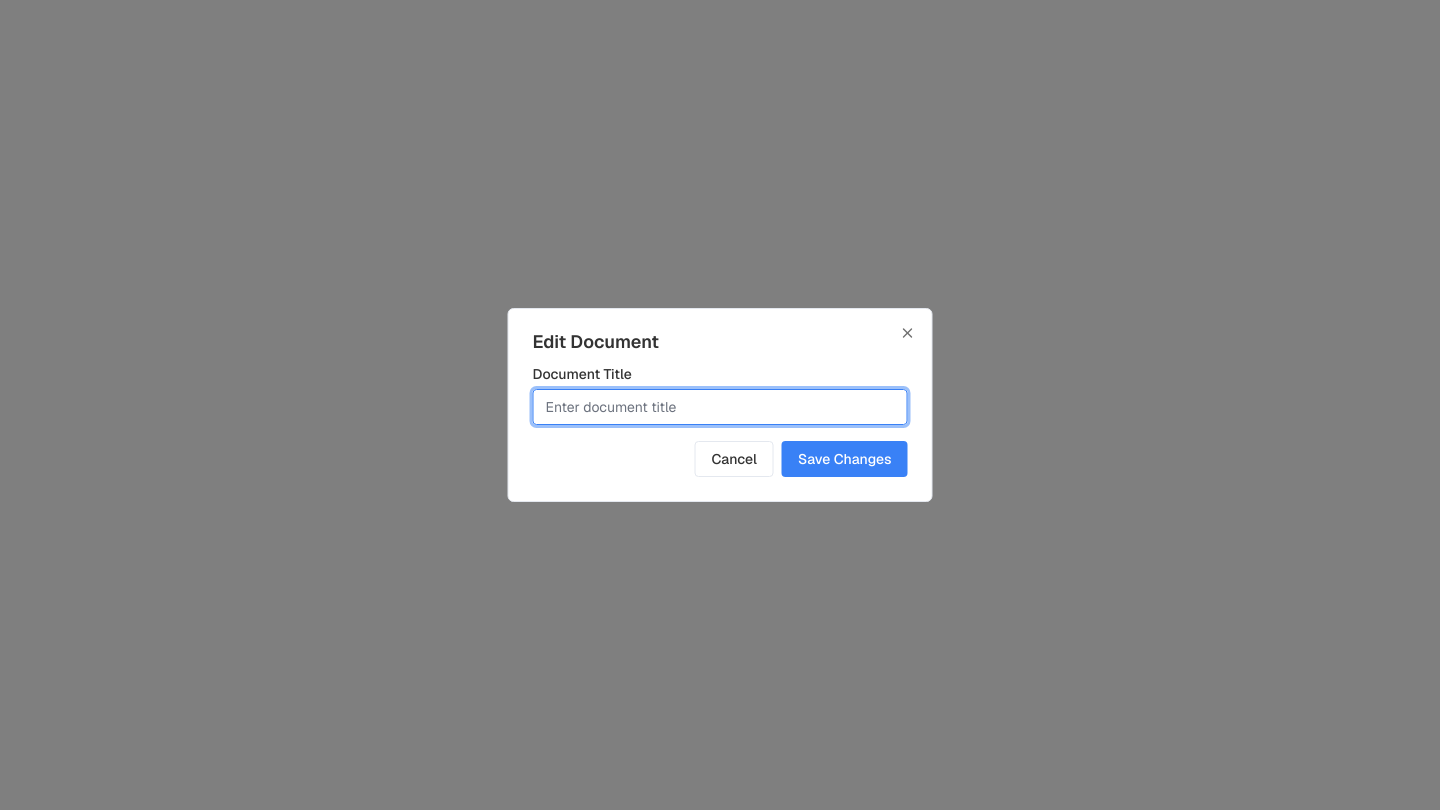
it: CardDialog › should show document-specific validation error when form is submitted with empty title
Click the button "Save Changes". click: (845, 459)
box: x1=782 y1=441 x2=908 y2=477
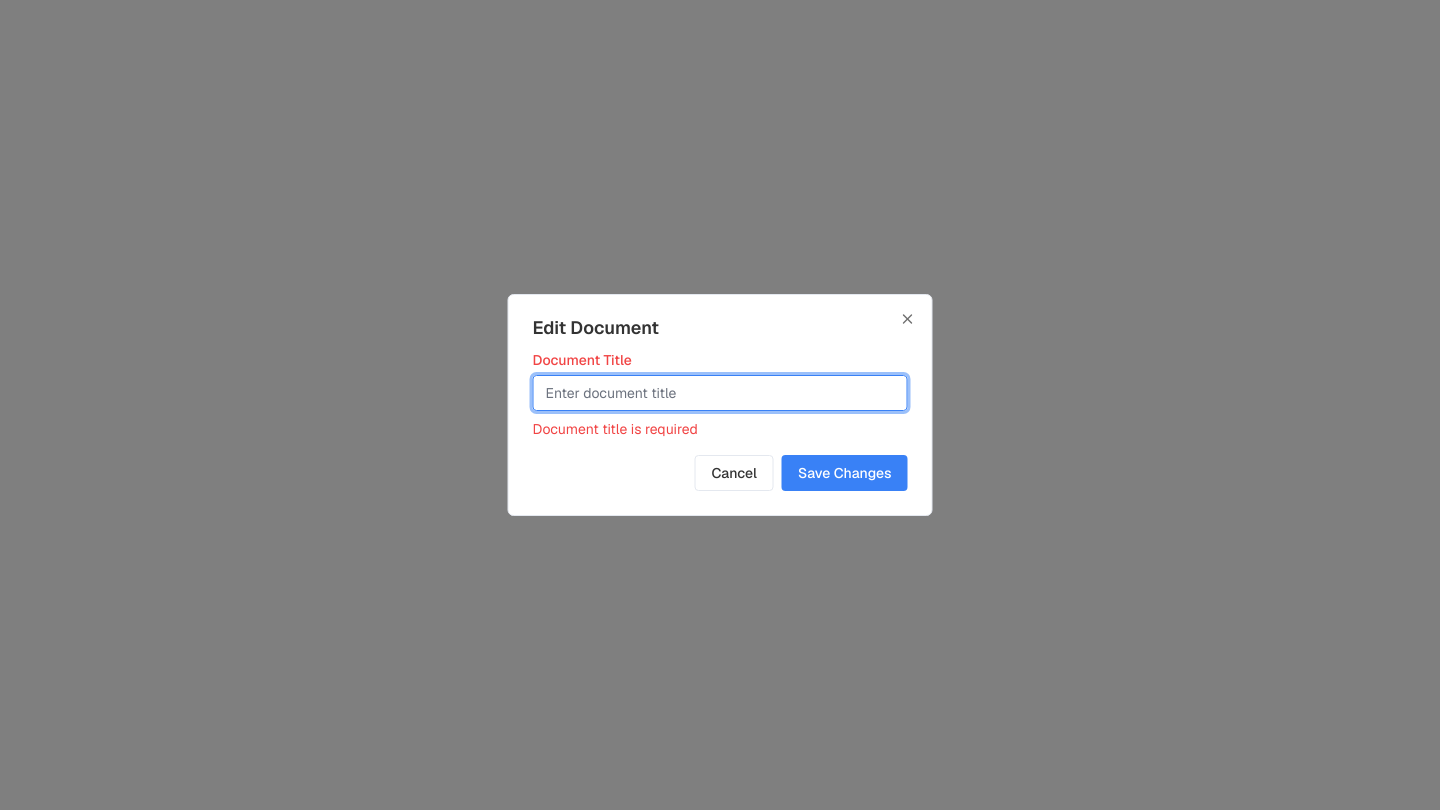
expect the text "Document title is required" is shown: met, box x1=532 y1=420 x2=698 y2=438
